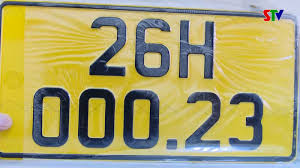plate: (1, 1, 295, 161)
